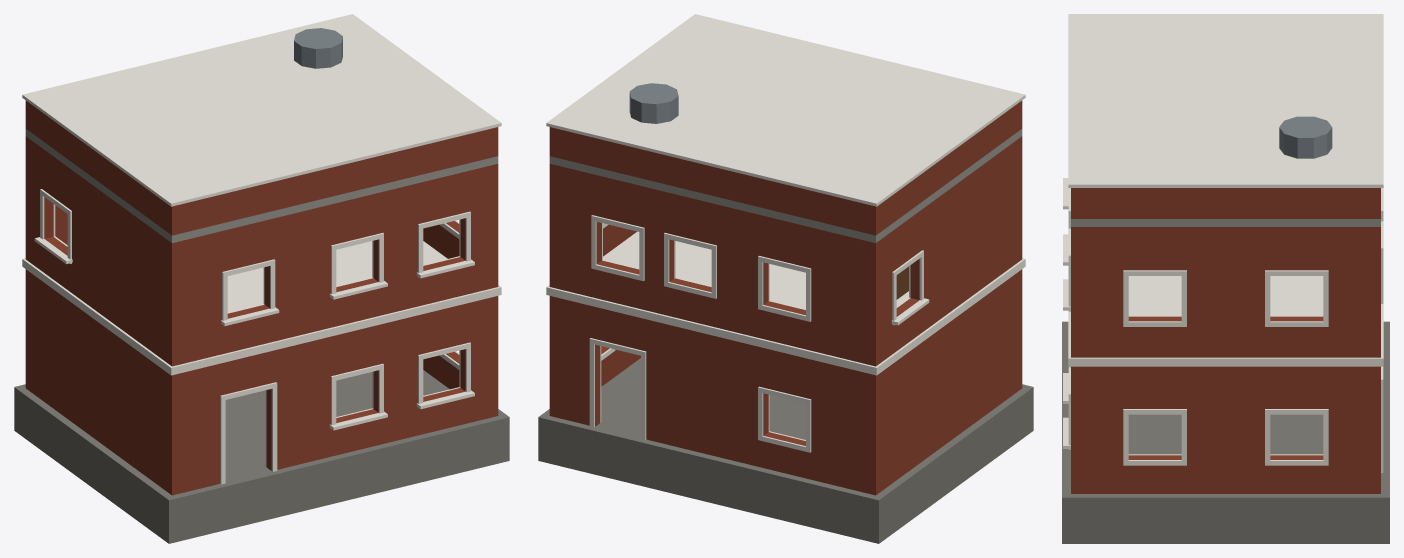
Rendered from house_tall_brick.glb.
The picture shows the model from 3 angles, left to right: view 1: azimuth 30°, elevation 25°; view 2: azimuth 150°, elevation 25°; view 3: azimuth 270°, elevation 25°; orthographic projection. The views are drawn at different scales.
Visible parts, largest first — view 1: house_tall_brick; view 2: house_tall_brick; view 3: house_tall_brick.
Part boxes in pixels (bbox=[...]): house_tall_brick: bbox=[14, 14, 509, 543]; house_tall_brick: bbox=[538, 14, 1033, 543]; house_tall_brick: bbox=[1062, 14, 1389, 543].
Size of the model in its own units: 9.4 by 9.4 by 7.4.
